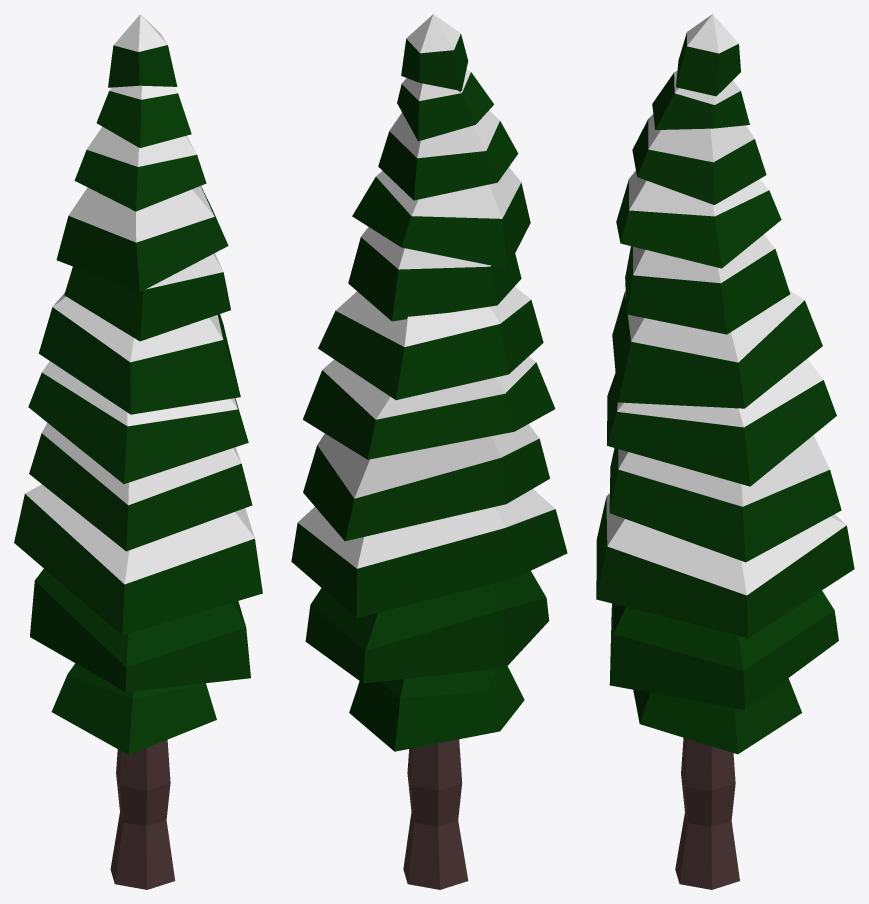
File: DarkWoodDecorationLargeXMasTree1.fbx
3 renders of one model, left to right at view 1: azimuth 30°, elevation 25°; view 2: azimuth 150°, elevation 25°; view 3: azimuth 270°, elevation 25°, orthographic.
Parts seen in each view (by area): view 1: Canopy, Trunk; view 2: Canopy, Trunk; view 3: Canopy, Trunk.
Part boxes in pixels (box(x1,y1,x2,y2)): Canopy: box(14, 14, 262, 754); Trunk: box(110, 739, 175, 889); Canopy: box(291, 14, 567, 751); Trunk: box(403, 739, 468, 889); Canopy: box(596, 14, 854, 754); Trunk: box(675, 738, 739, 889).
Bounding box in the file's own units: 528 × 1907 × 518.
